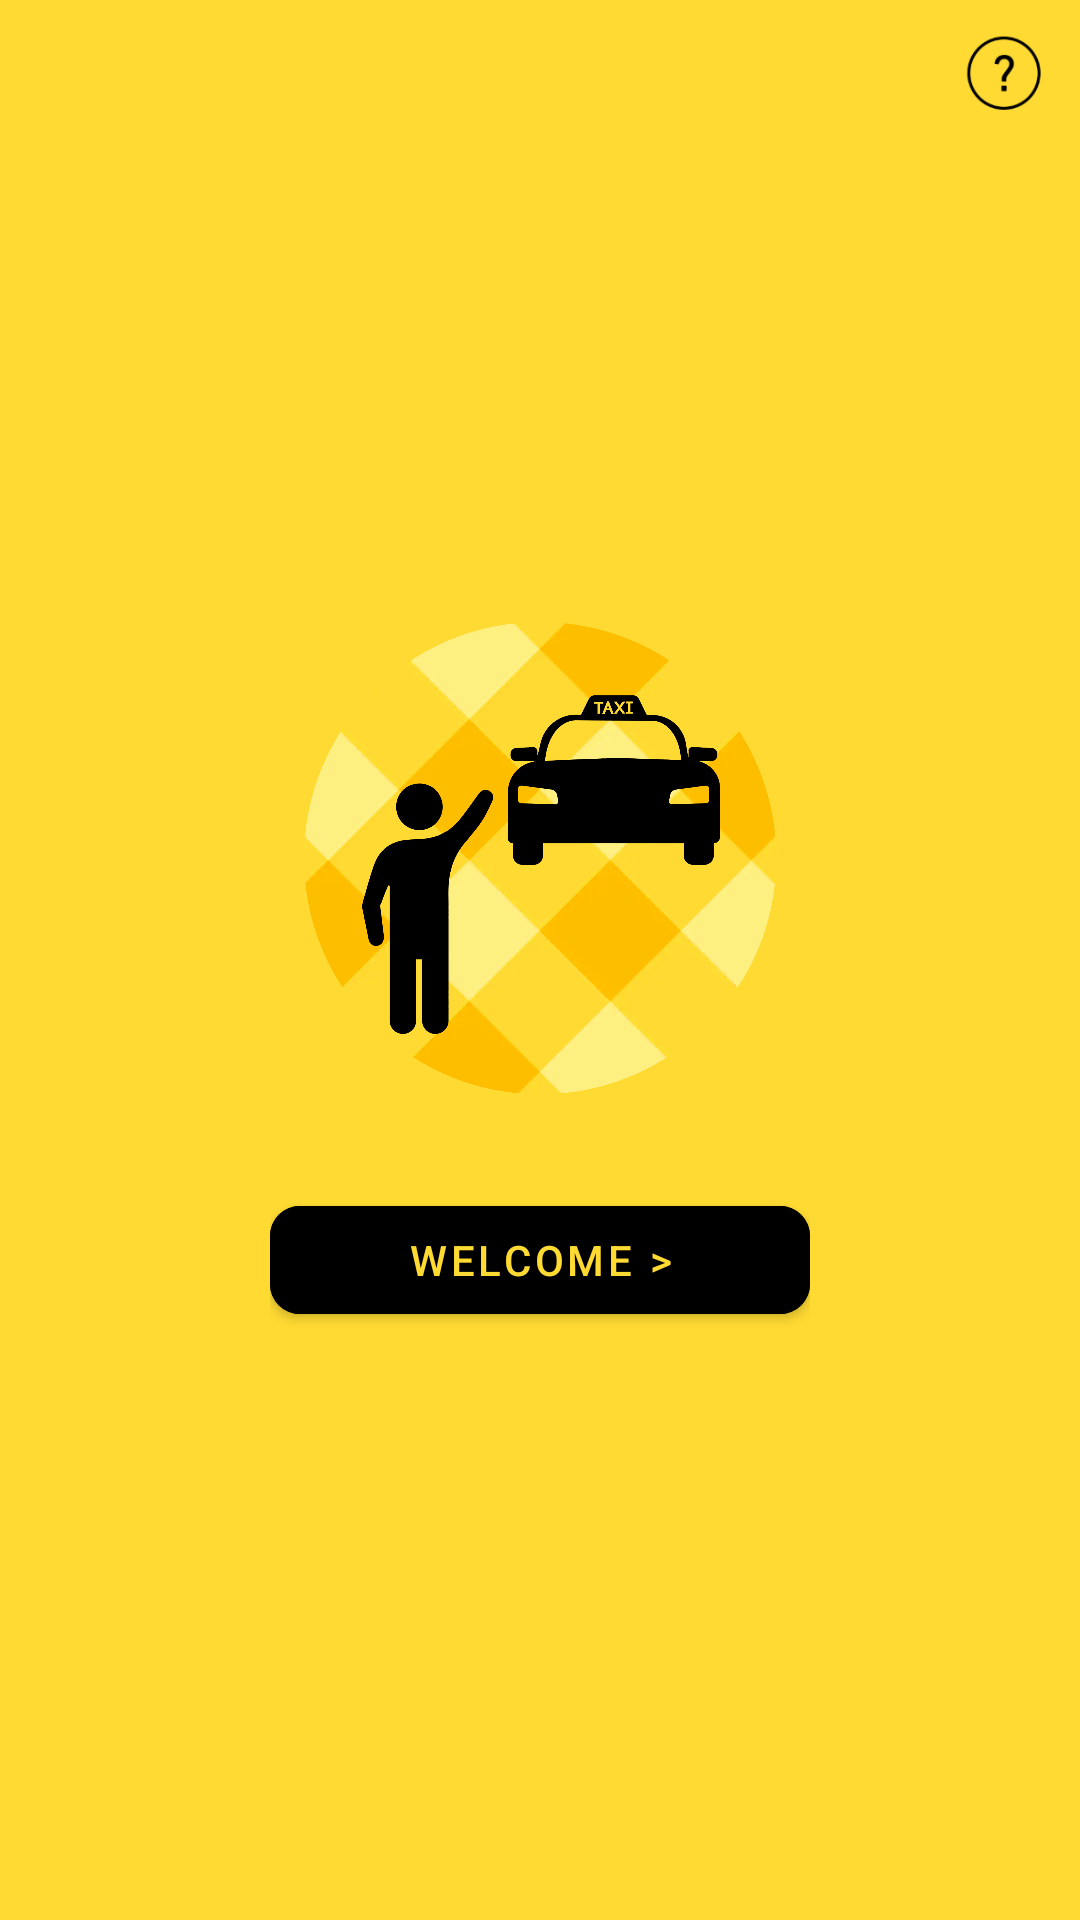

Icon click points for this 1080px×1920px phone screenshot, format (x,y):
info: (1004,73)
